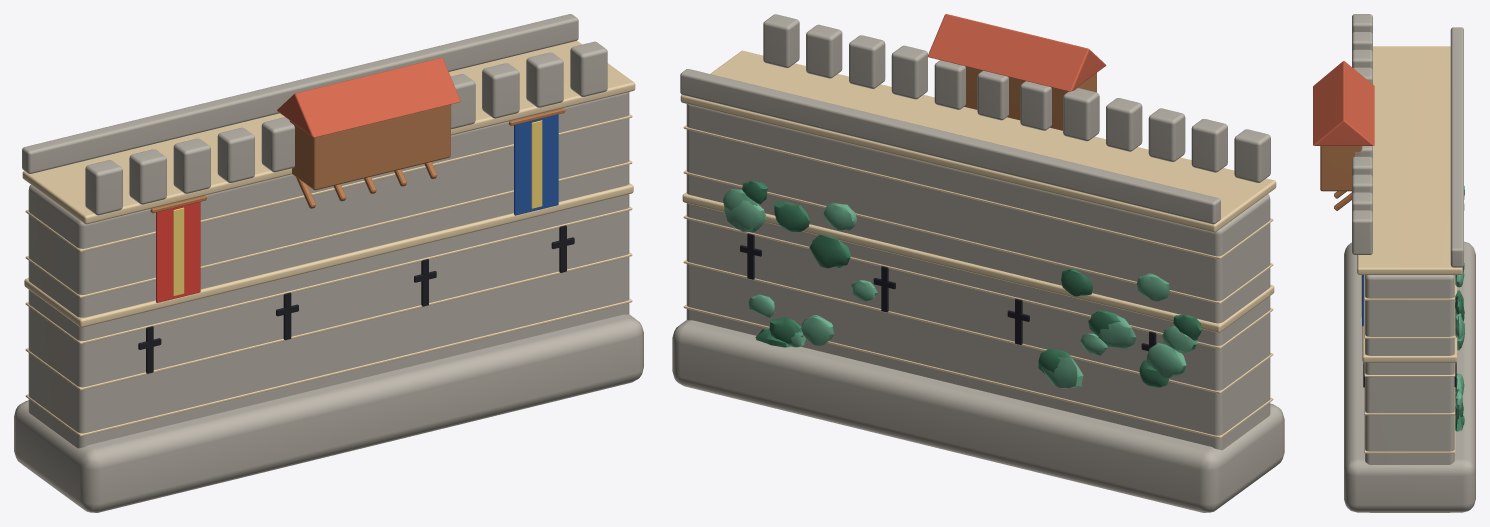
File: castle_wall.glb
3 views of the same model, side by side, from view 1: azimuth 30°, elevation 25°; view 2: azimuth 150°, elevation 25°; view 3: azimuth 270°, elevation 25° (orthographic). The views are drawn at different scales.
Visible parts, largest first — view 1: castle_wall; view 2: castle_wall; view 3: castle_wall.
Part boxes in pixels (box(x1,y1,x2,y2)): castle_wall: box(14, 14, 643, 512); castle_wall: box(672, 14, 1284, 512); castle_wall: box(1313, 14, 1475, 512).
Size of the model in its own units: 20.4 by 13.07 by 6.17.
1 material, 1 textured.
